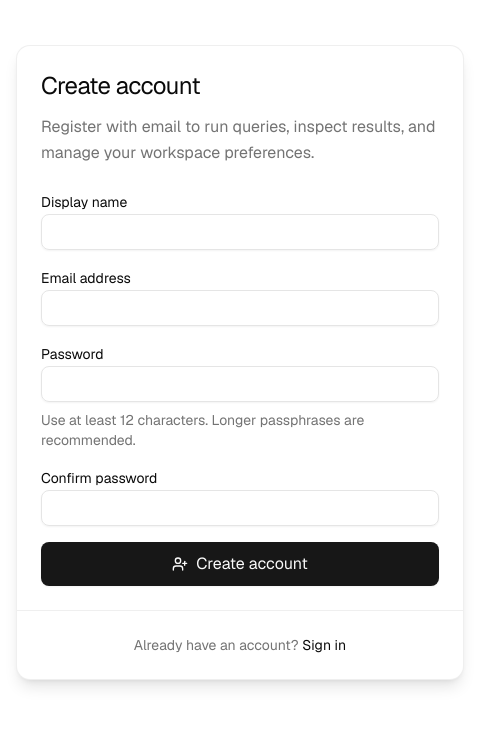
it: SignupPage › shows API errors from registration
This screenshot has width=481, height=735.
Expected: the heading "Create account" is shown, x1=41 y1=70 x2=200 y2=100
Type "Existing User" into the field labelled "Display name". click: (240, 232)
box: x1=41 y1=214 x2=439 y2=250
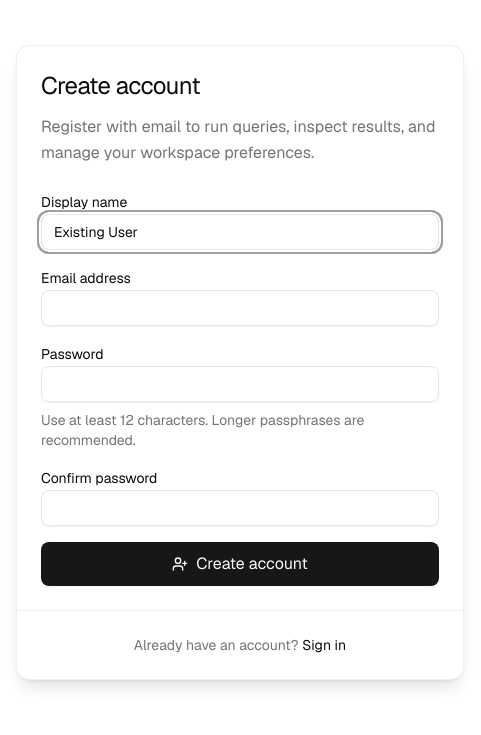
Type "existing@example.com" into the field labelled "Email address". click: (240, 308)
box: x1=41 y1=290 x2=439 y2=326
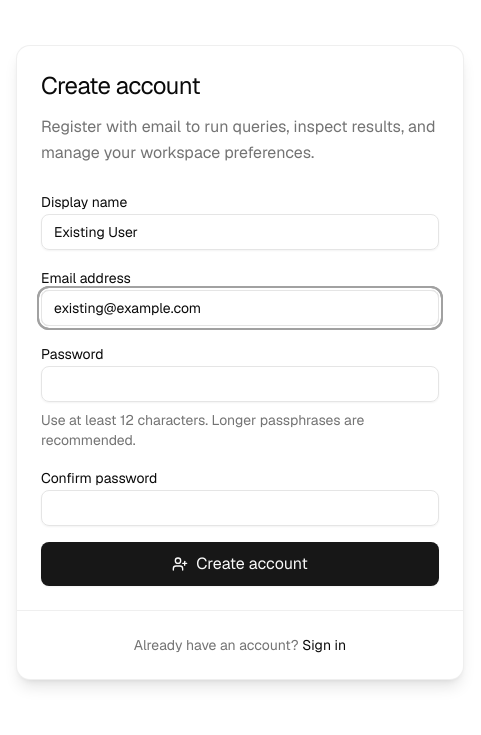
Type "correct-horse-battery-staple" into the password field labelled "Password". click: (240, 384)
box: x1=41 y1=366 x2=439 y2=402
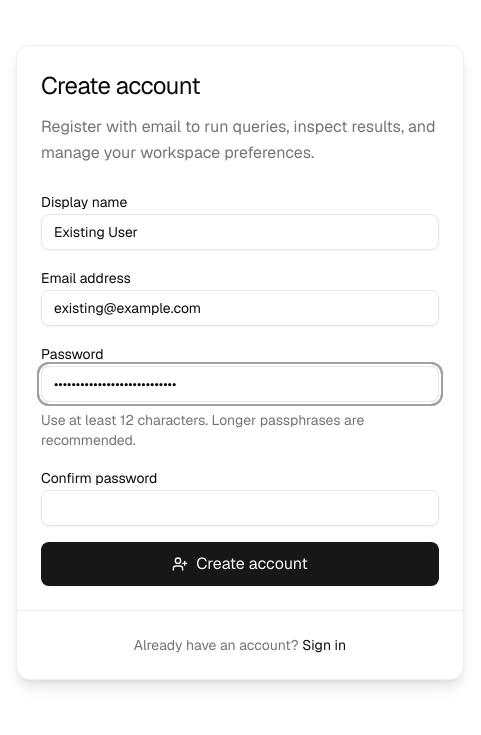
Type "correct-horse-battery-staple" into the password field labelled "Confirm password". click: (240, 508)
box: x1=41 y1=490 x2=439 y2=526
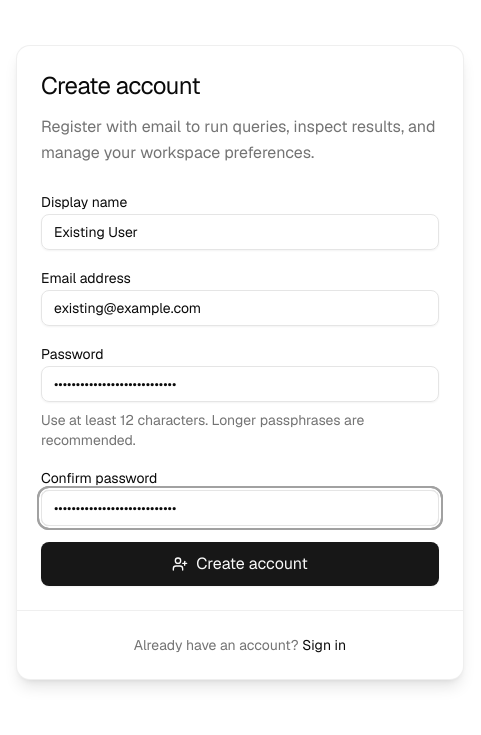
Click the button "Create account". click: (240, 564)
box: x1=41 y1=542 x2=439 y2=586
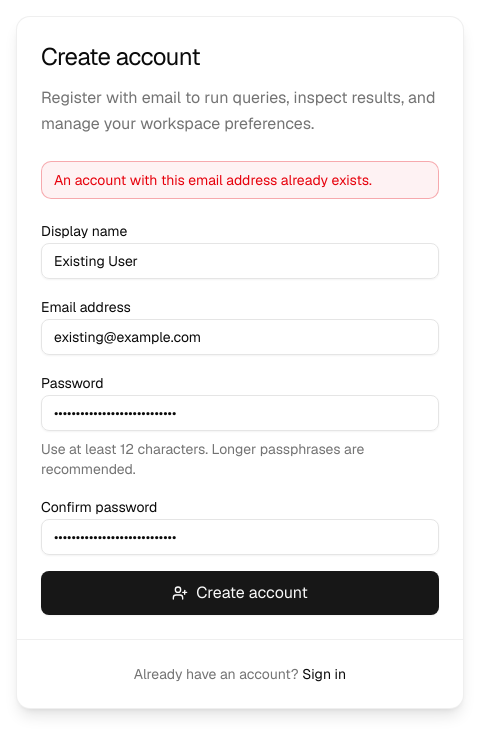
Expected: the message reads "An account with this email address already exists.", x1=54 y1=170 x2=372 y2=188
